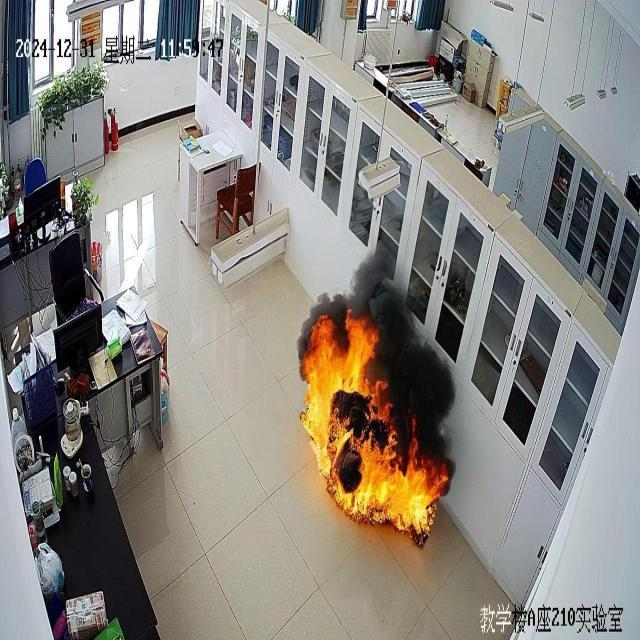smoke: (300, 299, 448, 546)
